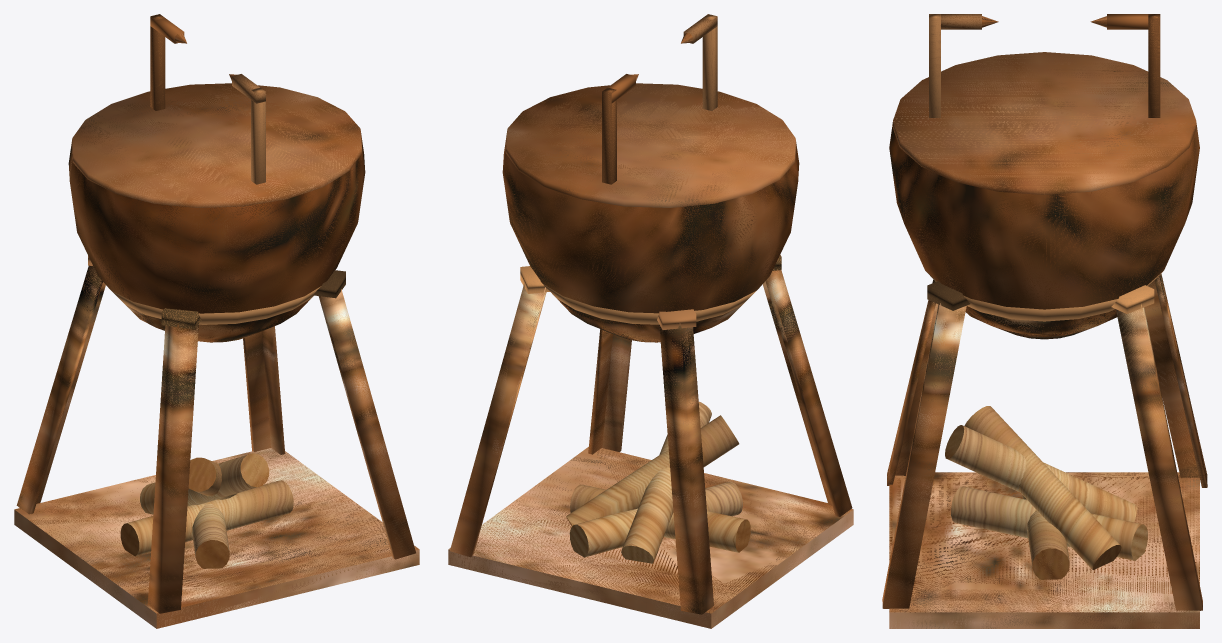
File: Aeolipile_base_textura.obj
3 renders of one model, left to right at view 1: azimuth 30°, elevation 25°; view 2: azimuth 150°, elevation 25°; view 3: azimuth 270°, elevation 25°, orthographic. The views are drawn at different scales.
Visible parts, largest first — view 1: Aeolipile_base_Material.001; view 2: Aeolipile_base_Material.001; view 3: Aeolipile_base_Material.001.
Part boxes in pixels (<box>): Aeolipile_base_Material.001: <box>14,14,419,628</box>; Aeolipile_base_Material.001: <box>448,14,853,628</box>; Aeolipile_base_Material.001: <box>882,14,1207,628</box>.
Bounding box in the file's own units: 2.81 × 5.03 × 2.75.
